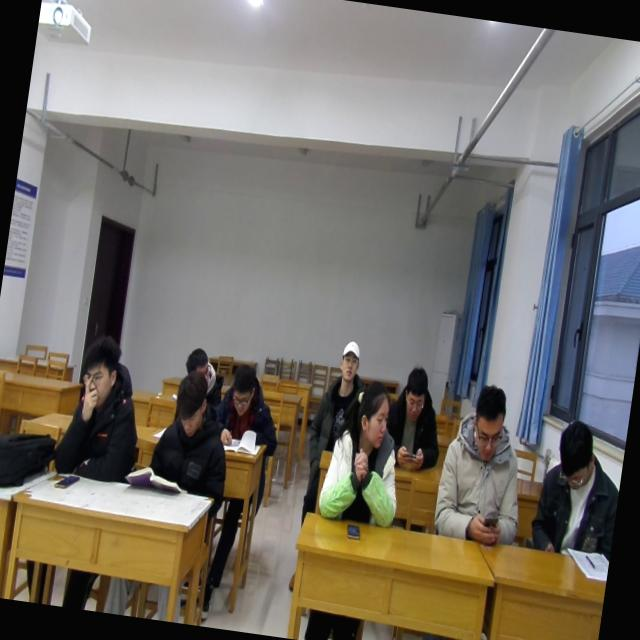down: (74, 330, 125, 414), (551, 416, 601, 497), (466, 378, 512, 464), (168, 369, 214, 444), (397, 361, 432, 426), (224, 362, 260, 423), (180, 341, 213, 386)
lookup: (334, 334, 364, 386)
sit: (431, 376, 539, 550), (47, 337, 152, 489), (314, 382, 412, 532), (531, 419, 627, 559), (144, 374, 238, 506), (306, 331, 371, 465), (382, 366, 451, 471), (211, 366, 288, 460), (179, 336, 231, 405)
